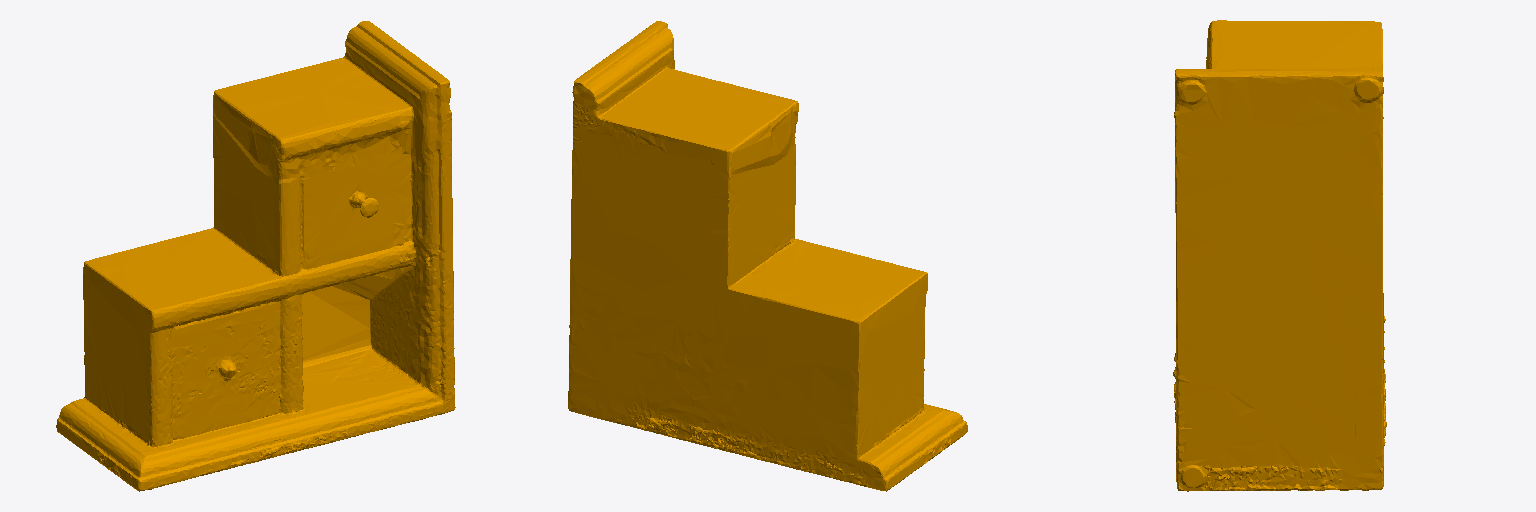
URDF robot description (Victor_Reversible_Bookend):

<robot name="Victor_Reversible_Bookend">
    <link name="base">
        <inertial>
            <origin xyz="-4.184929895572628e-18 -3.1082836869732744e-18 -2.685532774557144e-17" />
            <mass value="0.0029010774087651473" />
            <inertia ixx="1.3507376439023255e-05" ixy="3.205091471044287e-08" 
                     ixz="-4.610751529249798e-06" iyy="2.2602922096355395e-05" 
                     iyz="2.8469844711620357e-08" izz="1.3340679717832005e-05" />
        </inertial>
        <visual>
            <origin xyz="0 0 0" />
            <geometry>
                <mesh filename="visual_geometry.obj" />
            </geometry>
        </visual>
        <collision>
            <origin xyz="0 0 0" />
            <geometry>
                <mesh filename="collision_geometry.obj" />
            </geometry>
        </collision>
    </link>
</robot>

--- Facts derived from the render (not from the file) ---
3 views of the same robot in one strip: view 1: azimuth 30°, elevation 25°; view 2: azimuth 150°, elevation 25°; view 3: azimuth 270°, elevation 25° (orthographic).
Robot: Victor_Reversible_Bookend — 1 links, 0 joints (none); root link base; default pose: all joints at 0.
Visible links, largest first — view 1: base; view 2: base; view 3: base.
Link boxes in pixels (bbox=[...]): base: bbox=[56, 21, 455, 491]; base: bbox=[568, 21, 967, 491]; base: bbox=[1173, 20, 1386, 491].
Size in the robot's own frame: 0.2349 by 0.1089 by 0.2364 metres.
Meshes: 1 distinct files referenced, 1 mesh visuals loaded (1 OBJ).
